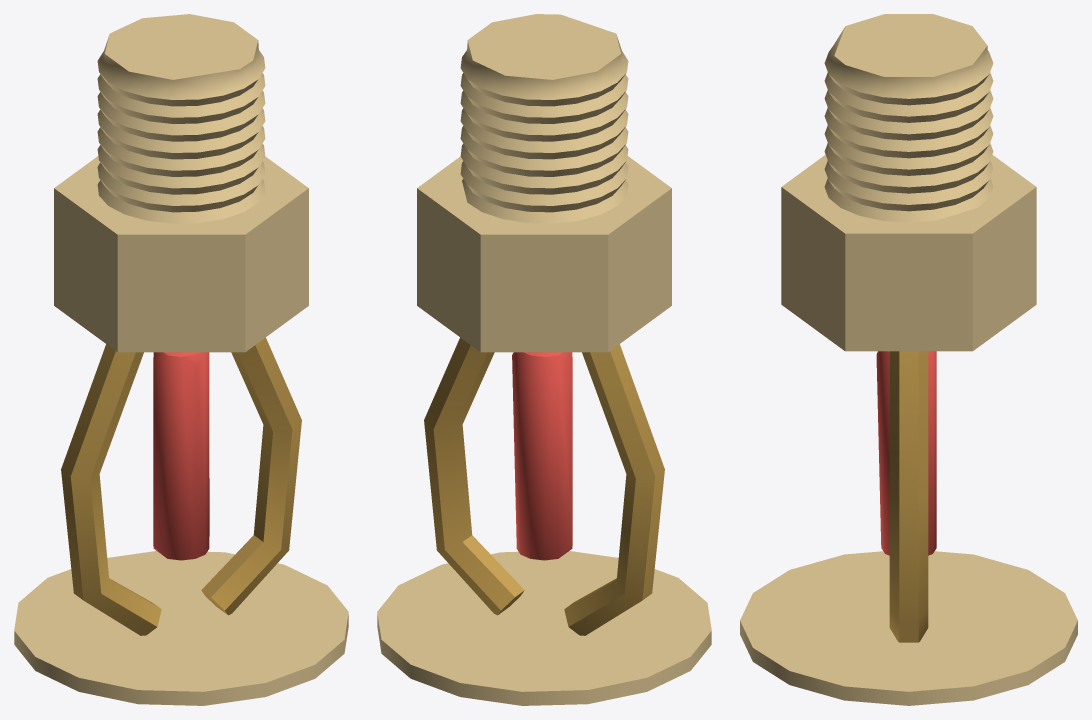
File: HID-INC-008_lod1.glb
3 renders of one model, left to right at view 1: azimuth 30°, elevation 25°; view 2: azimuth 150°, elevation 25°; view 3: azimuth 270°, elevation 25°, orthographic.
Parts seen in each view (by area): view 1: HID-INC-008_corpo, HID-INC-008_defletor, HID-INC-008_rosca, HID-INC-008_braco-1, HID-INC-008_ampola, HID-INC-008_braco1; view 2: HID-INC-008_corpo, HID-INC-008_defletor, HID-INC-008_rosca, HID-INC-008_ampola, HID-INC-008_braco-1, HID-INC-008_braco1; view 3: HID-INC-008_defletor, HID-INC-008_corpo, HID-INC-008_rosca, HID-INC-008_braco1, HID-INC-008_ampola.
Boxes of the visible parts, x1,y1,x2,y2 form: HID-INC-008_corpo: (54, 156, 308, 352); HID-INC-008_defletor: (14, 551, 348, 705); HID-INC-008_rosca: (97, 14, 265, 223); HID-INC-008_braco-1: (61, 344, 161, 635); HID-INC-008_ampola: (153, 352, 209, 560); HID-INC-008_braco1: (201, 337, 301, 615); HID-INC-008_corpo: (417, 156, 671, 352); HID-INC-008_defletor: (377, 551, 711, 705); HID-INC-008_rosca: (460, 14, 628, 223); HID-INC-008_ampola: (512, 352, 572, 560); HID-INC-008_braco-1: (564, 344, 664, 635); HID-INC-008_braco1: (424, 337, 524, 615); HID-INC-008_defletor: (740, 551, 1077, 705); HID-INC-008_corpo: (781, 155, 1036, 351); HID-INC-008_rosca: (824, 14, 993, 222); HID-INC-008_braco1: (889, 351, 928, 642); HID-INC-008_ampola: (876, 351, 936, 555).
Bounding box in the file's own units: 0.026 × 0.05 × 0.026.
3 materials, 1 textured.
